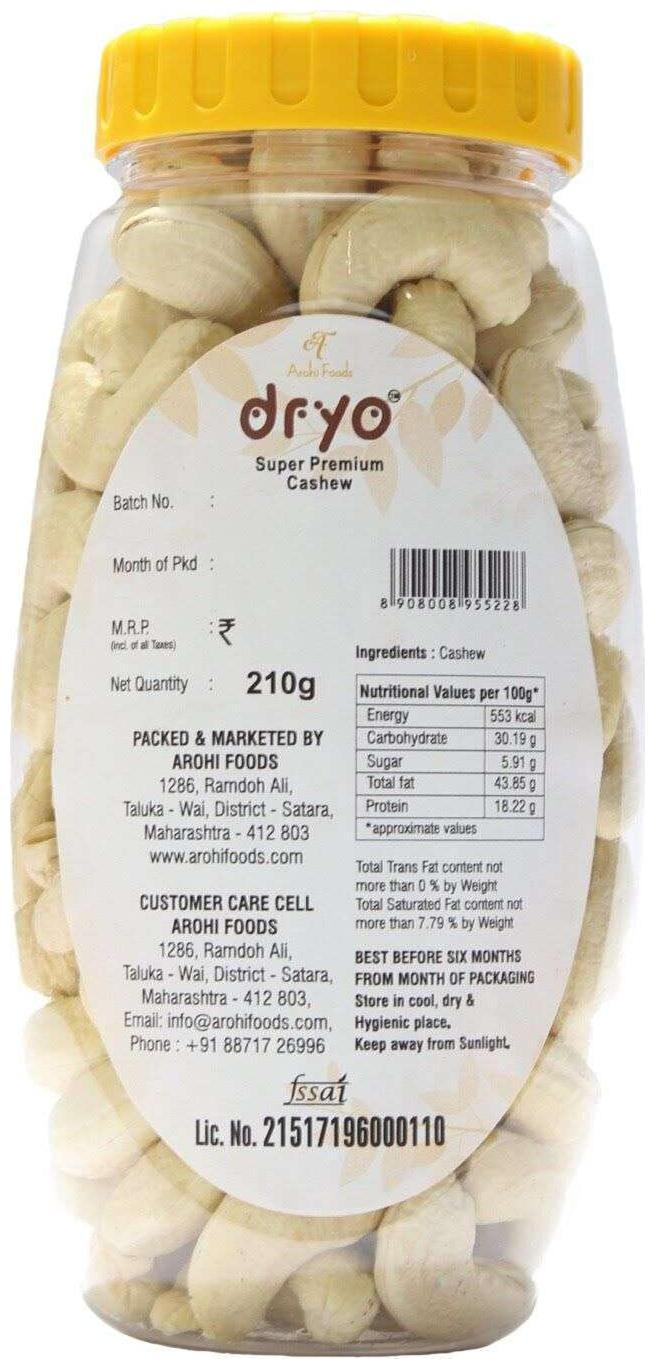fsaai: (282, 1071, 350, 1106)
